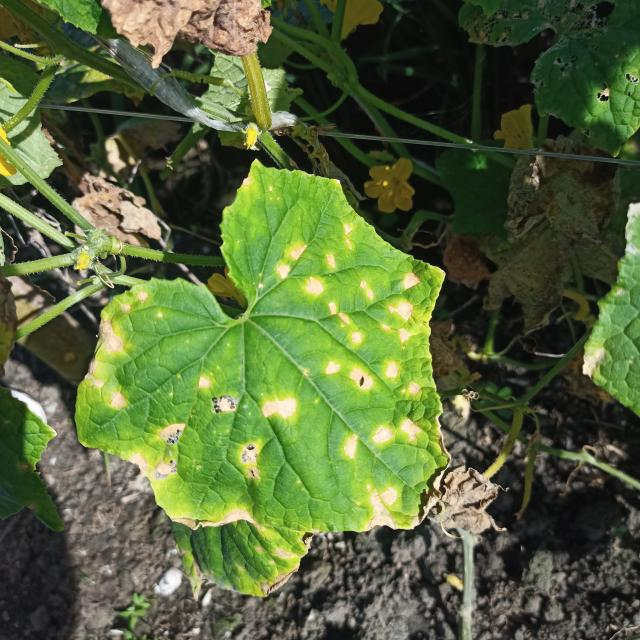disease_cucumber: (88, 223, 437, 529)
